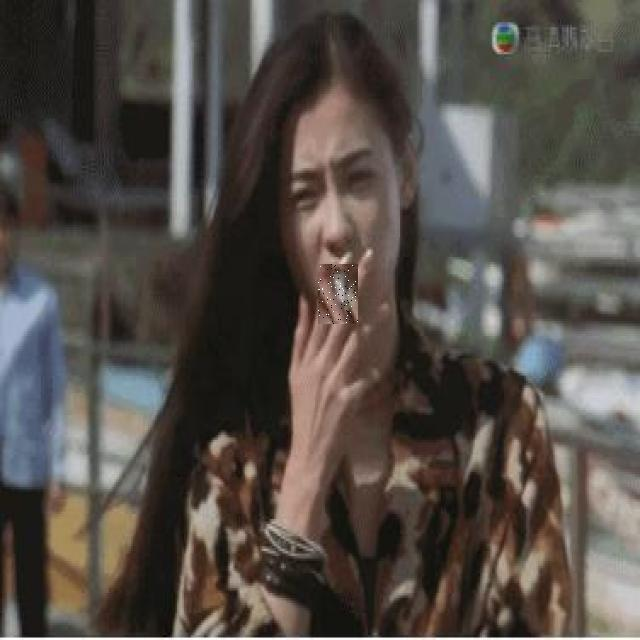smoking: (318, 264, 358, 324)
